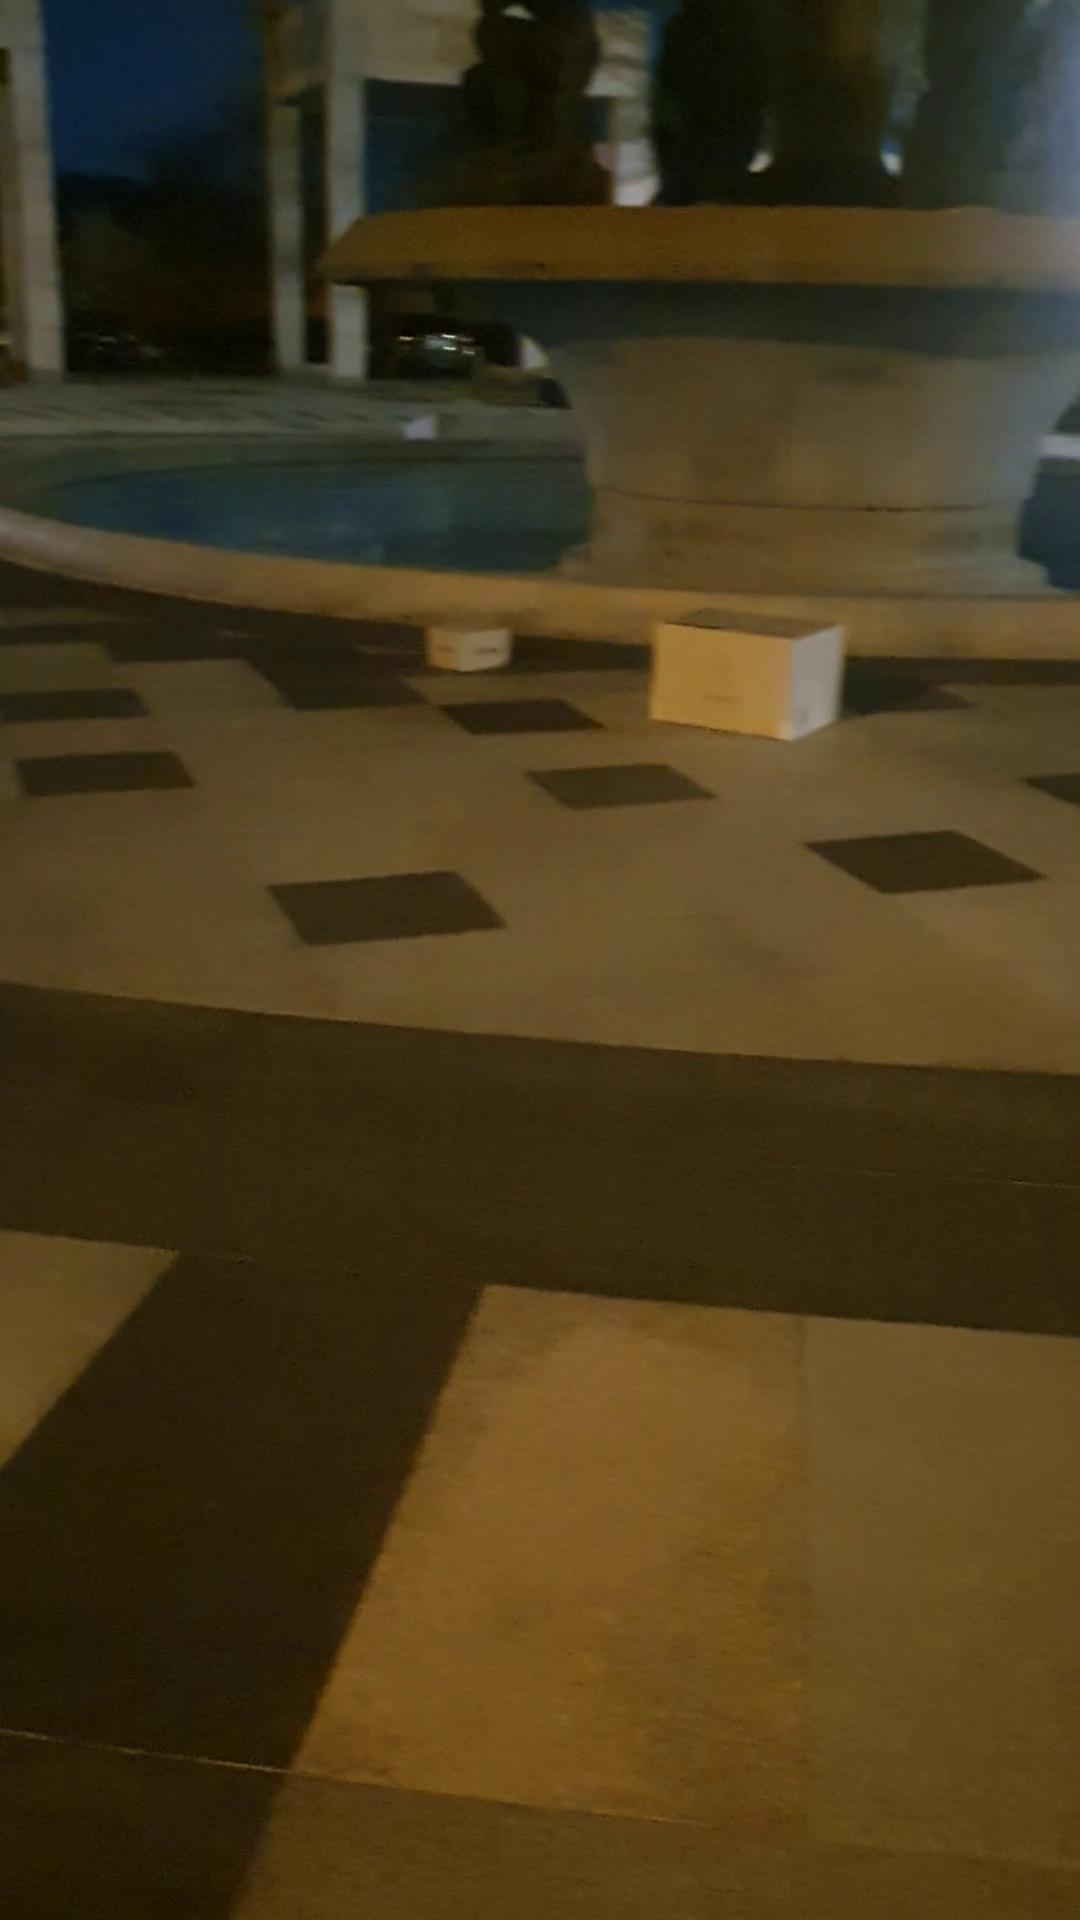Box: (658, 588, 855, 745), (413, 589, 506, 682)
